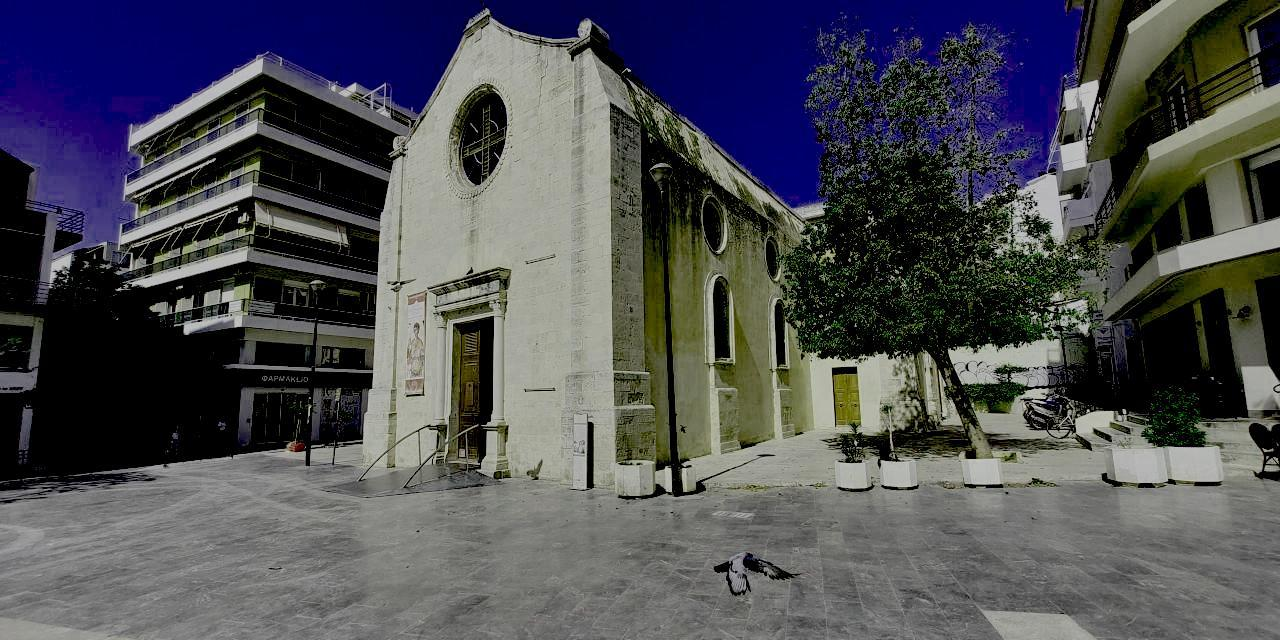Agia Aikaterini: (357, 1, 812, 493)
